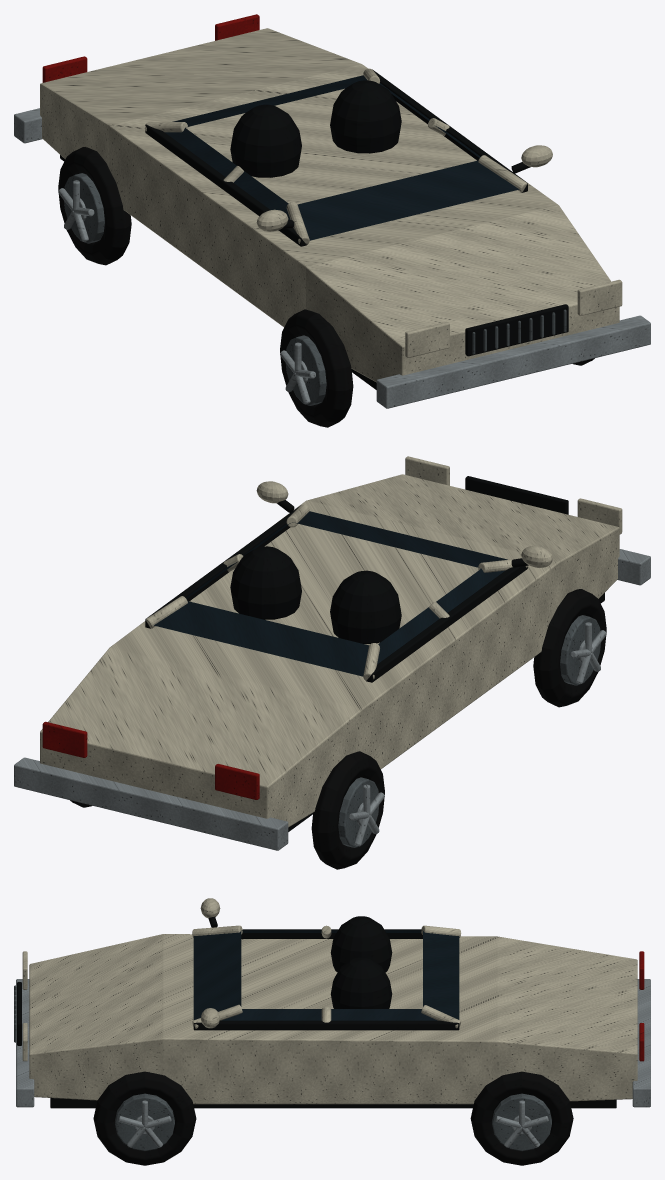
File: PROP-4250C1AC6917_lod0.glb
3 renders of one model, top to bottom at view 1: azimuth 30°, elevation 25°; view 2: azimuth 150°, elevation 25°; view 3: azimuth 270°, elevation 25°, orthographic. The views are drawn at different scales.
Visible parts, largest first — view 1: shaped_body_panels.011, sloped_cabin_glazing.011, bumper.011, convertible_seats.001, tire.011, window_belt.011, rim.011, radiator_grille.011, lamp_lenses.022, window_pillars.011, rim_spokes.011, lamp_lenses.023 (+2 smaller); view 2: shaped_body_panels.011, sloped_cabin_glazing.011, bumper.011, convertible_seats.001, tire.011, window_belt.011, rim.011, lamp_lenses.023, window_pillars.011, lamp_lenses.022, rim_spokes.011, radiator_grille.011 (+1 smaller); view 3: shaped_body_panels.011, tire.011, sloped_cabin_glazing.011, convertible_seats.001, rim.011, window_belt.011, bumper.011, chassis.011, window_pillars.011, rim_spokes.011, mirror.011, lamp_lenses.022 (+1 smaller).
Boxes of the visible parts, x1,y1,x2,y2 form: shaped_body_panels.011: (40, 28, 619, 382); sloped_cabin_glazing.011: (165, 75, 519, 240); bumper.011: (14, 108, 650, 408); convertible_seats.001: (230, 80, 401, 177); tire.011: (58, 147, 594, 427); window_belt.011: (145, 69, 527, 246); rim.011: (64, 173, 326, 405); radiator_grille.011: (465, 304, 568, 356); lamp_lenses.022: (405, 279, 622, 357); window_pillars.011: (145, 68, 528, 244); rim_spokes.011: (58, 180, 315, 404); lamp_lenses.023: (42, 14, 259, 82); shaped_body_panels.011: (40, 474, 619, 827); sloped_cabin_glazing.011: (154, 511, 507, 676); bumper.011: (14, 549, 650, 850); convertible_seats.001: (230, 546, 401, 643); tire.011: (70, 589, 606, 869); window_belt.011: (145, 505, 527, 682); rim.011: (338, 615, 600, 847); lamp_lenses.023: (42, 721, 259, 799); window_pillars.011: (145, 504, 527, 680); lamp_lenses.022: (405, 456, 622, 534); rim_spokes.011: (349, 622, 606, 846); radiator_grille.011: (465, 476, 568, 514); shaped_body_panels.011: (29, 934, 637, 1104); tire.011: (93, 1071, 573, 1165); sloped_cabin_glazing.011: (193, 930, 459, 1020); convertible_seats.001: (330, 916, 392, 1008); rim.011: (115, 1093, 551, 1151); window_belt.011: (193, 929, 459, 1030); bumper.011: (16, 979, 650, 1107); chassis.011: (50, 1098, 616, 1108); window_pillars.011: (192, 925, 461, 1028); rim_spokes.011: (118, 1100, 548, 1147); mirror.011: (200, 898, 220, 1028); lamp_lenses.022: (22, 951, 27, 1061).
Bounding box in the file's own units: 2.09 × 1.37 × 4.56.
7 materials, 7 textured.
